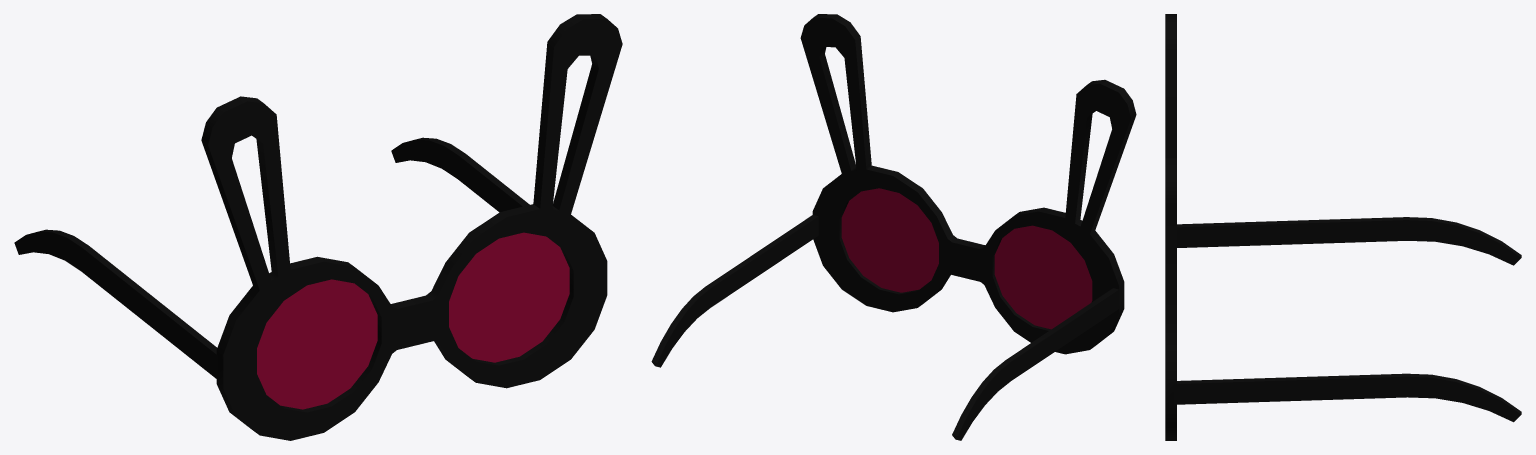
The model's file is Spects_3.FBX.
3 views of the same model, side by side, from view 1: azimuth 30°, elevation 25°; view 2: azimuth 150°, elevation 25°; view 3: azimuth 270°, elevation 25° (orthographic). The views are drawn at different scales.
Parts seen in each view (by area): view 1: 202001006-2 うさぎのサングラス v1 フレーム; view 2: 202001006-2 うさぎのサングラス v1 フレーム; view 3: 202001006-2 うさぎのサングラス v1 フレーム.
Part boxes in pixels (x1,y1,x2,y2): 202001006-2 うさぎのサングラス v1 フレーム: (14, 14, 622, 440); 202001006-2 うさぎのサングラス v1 フレーム: (651, 14, 1136, 440); 202001006-2 うさぎのサングラス v1 フレーム: (1165, 14, 1521, 440).
Size of the model in its own units: 26.93 by 21.74 by 23.52.
